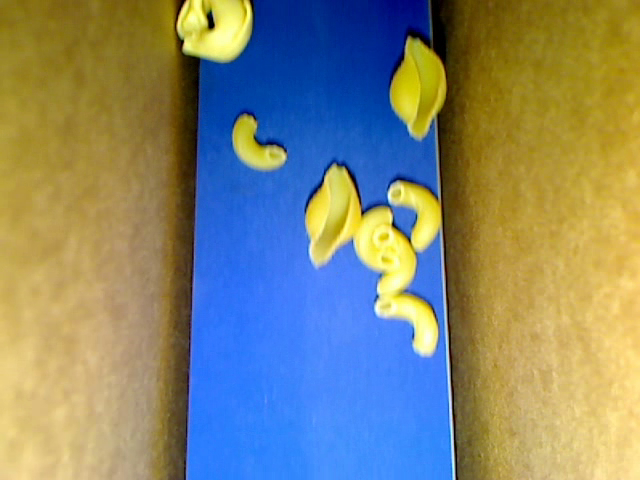elbow: (374, 293, 437, 356), (387, 179, 441, 252), (372, 223, 417, 296), (229, 112, 285, 170), (354, 206, 397, 268)
shell: (302, 165, 360, 269), (390, 38, 446, 141)
tortellini: (175, 1, 252, 64)
